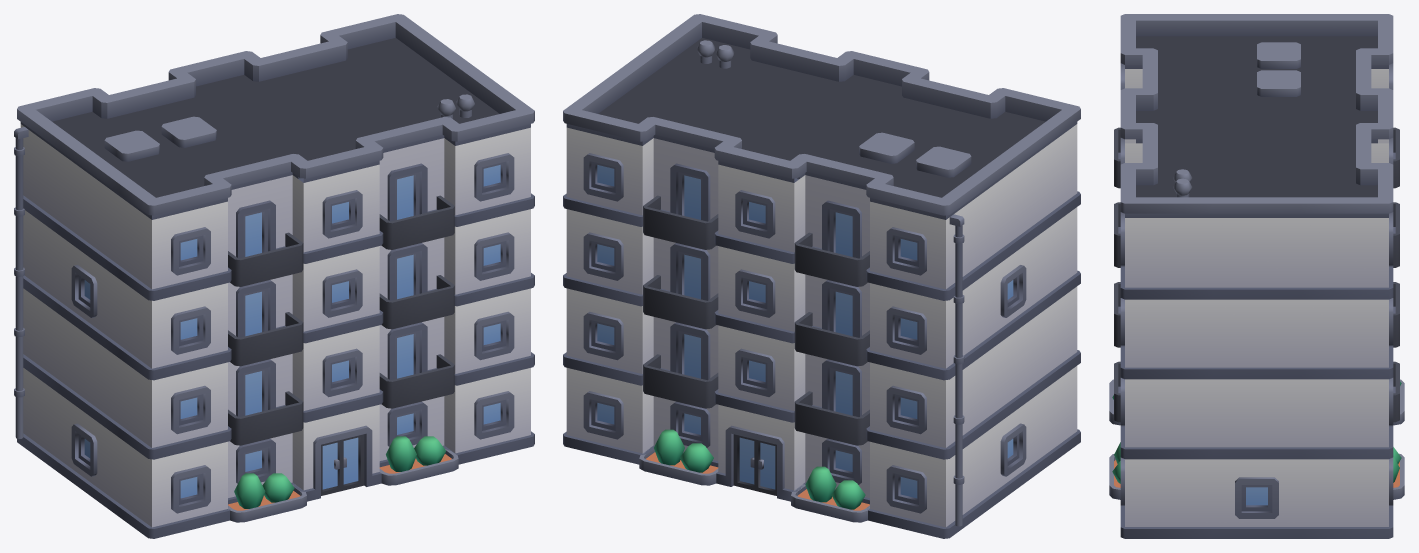
The model's file is mediium_house.glb.
3 views of the same model, side by side, from view 1: azimuth 30°, elevation 25°; view 2: azimuth 150°, elevation 25°; view 3: azimuth 270°, elevation 25° (orthographic).
Visible parts, largest first — view 1: building-j; view 2: building-j; view 3: building-j.
Part boxes in pixels (x1,y1,x2,y2): building-j: [14, 14, 534, 538]; building-j: [563, 14, 1080, 538]; building-j: [1109, 14, 1404, 538].
Bounding box in the file's own units: 2.08 × 1.69 × 1.34.
1 material, 1 textured.
